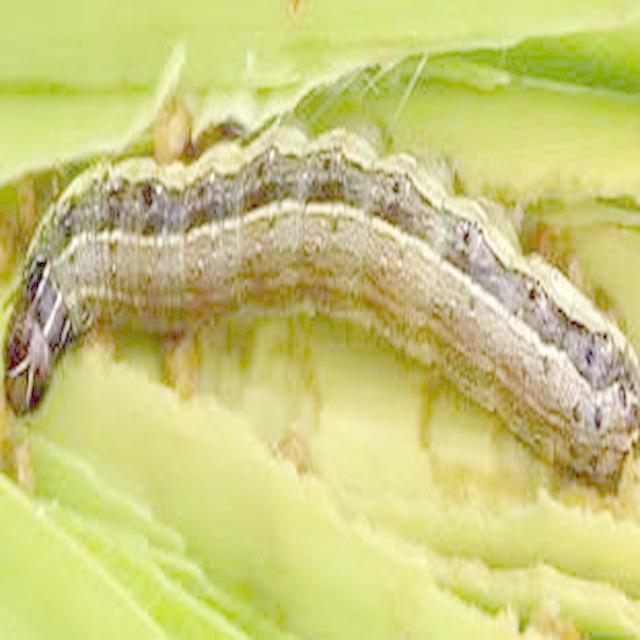gusano_cogollero: (0, 92, 640, 515)
